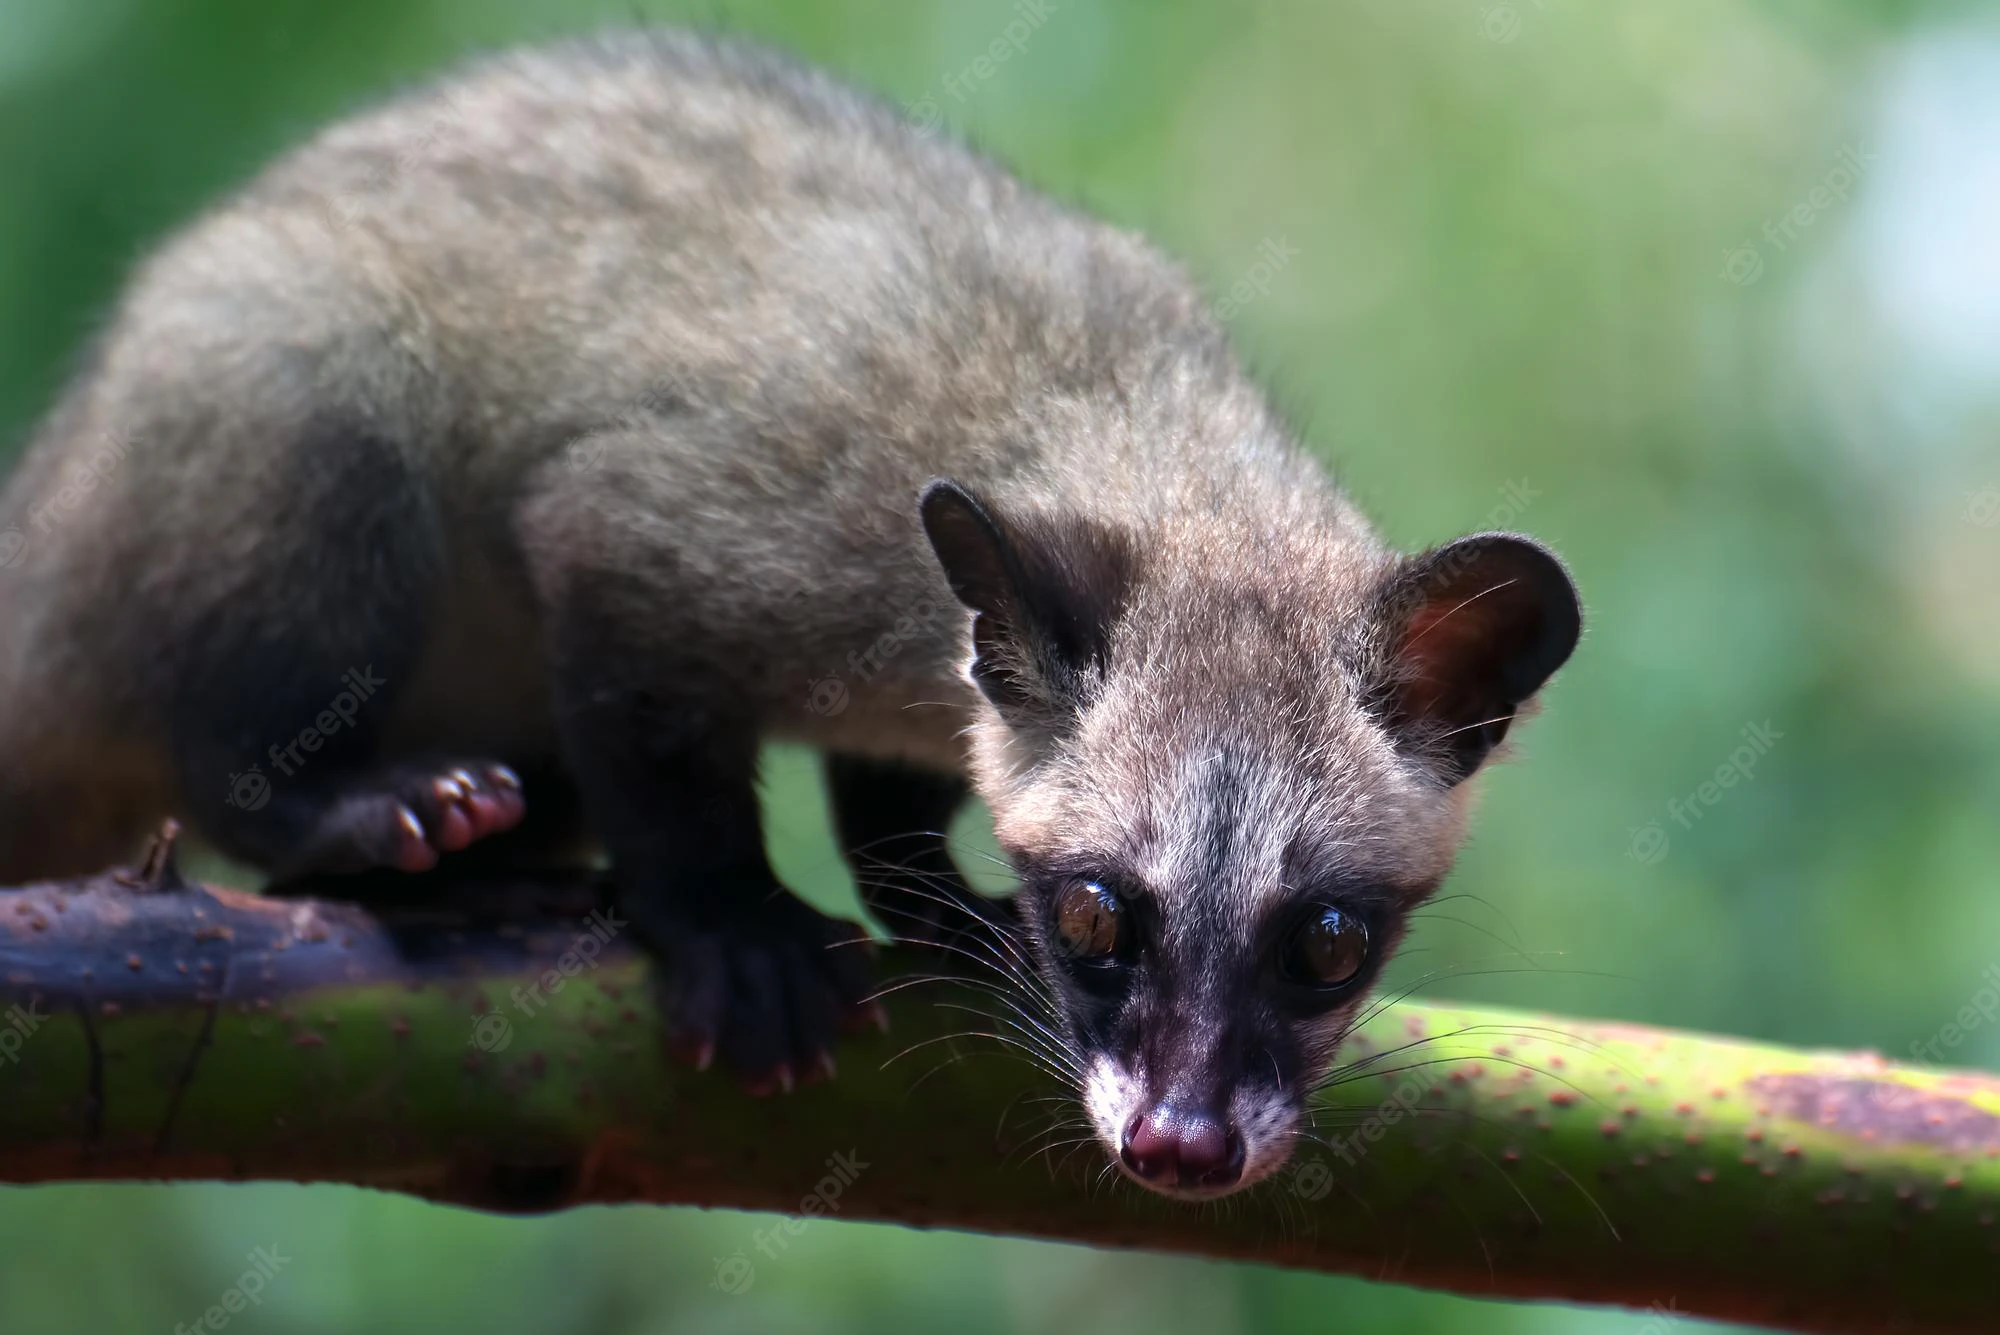Civet: (1, 1, 1616, 1207)
